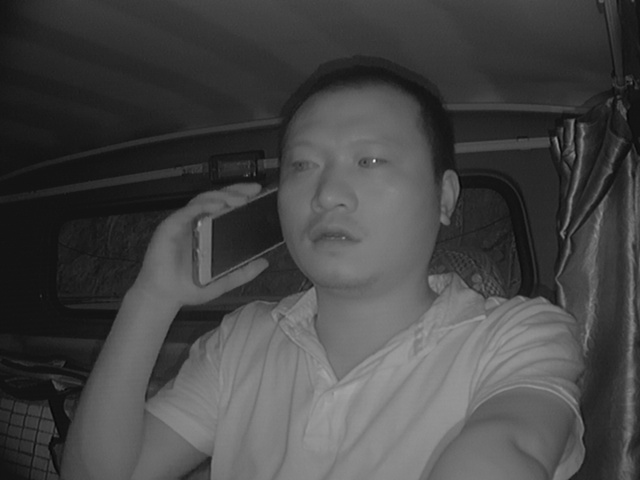hand: (143, 182, 266, 302)
